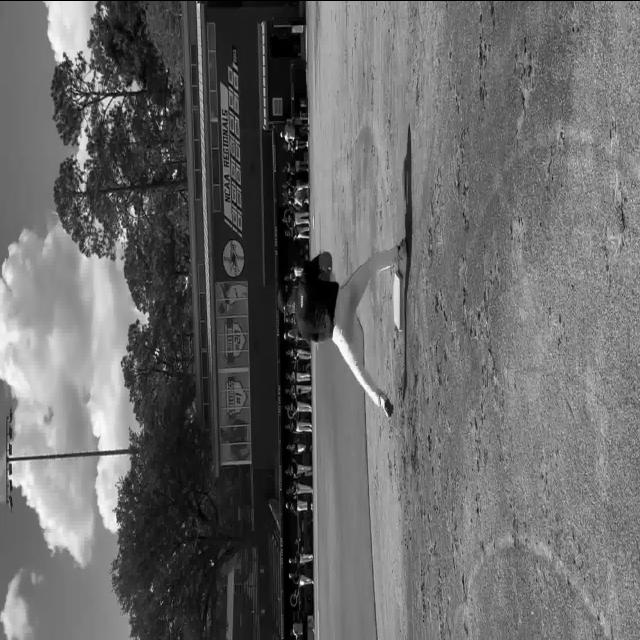base: (392, 271, 404, 329)
shoe: (381, 393, 394, 418), (398, 238, 408, 260)
